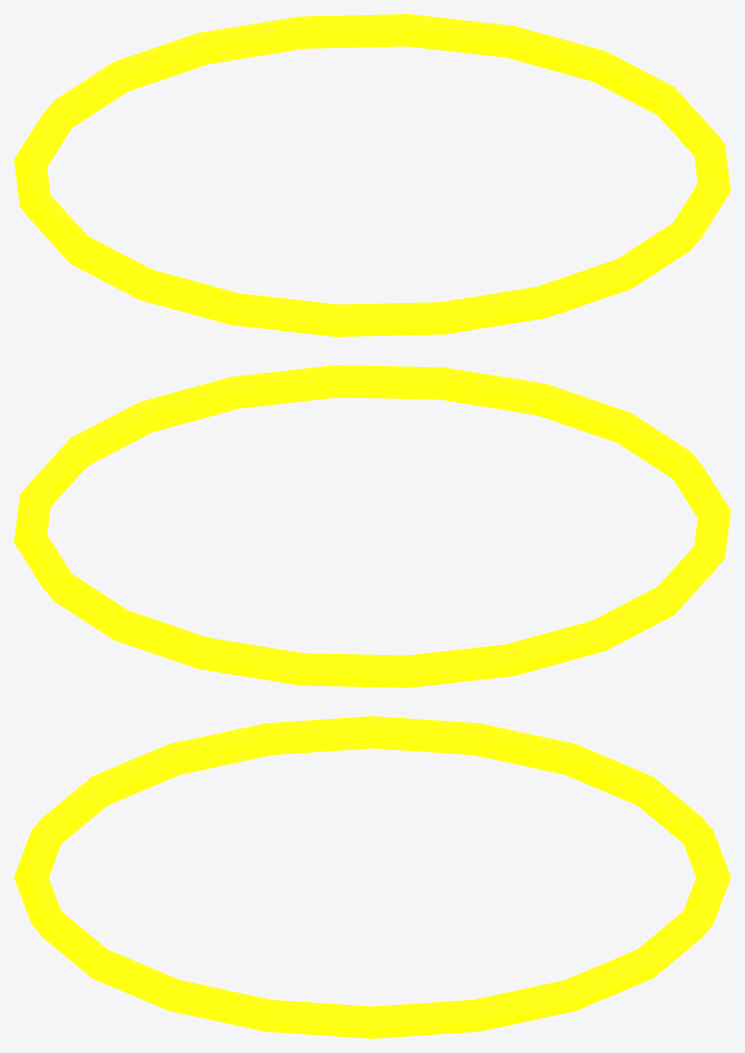
The model's file is ring1.glb.
The picture shows the model from 3 angles, top to bottom: view 1: azimuth 30°, elevation 25°; view 2: azimuth 150°, elevation 25°; view 3: azimuth 270°, elevation 25°; orthographic projection.
Parts seen in each view (by area): view 1: Torus.001; view 2: Torus.001; view 3: Torus.001.
Part boxes in pixels (x1,y1,x2,y2): Torus.001: (14,14,730,336); Torus.001: (14,365,730,687); Torus.001: (14,716,730,1038).
Size of the model in its own units: 27.36 by 1.26 by 27.36.
